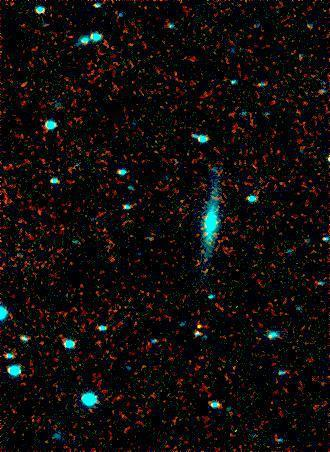star: (184, 310, 214, 340)
